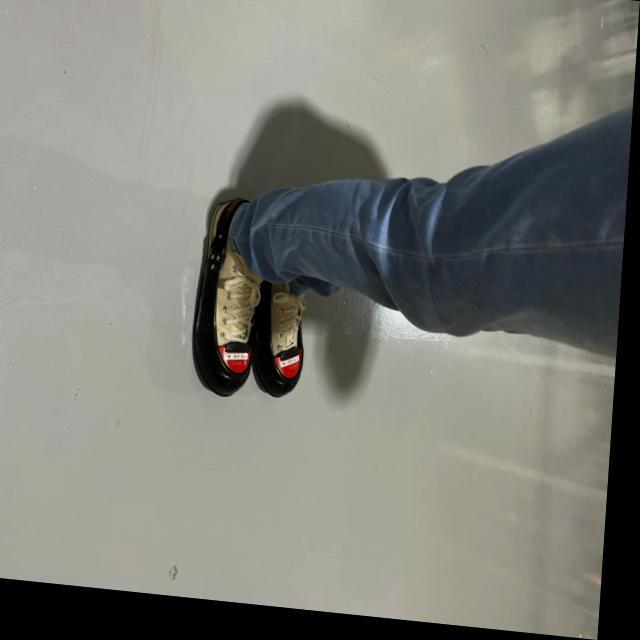shoes: (184, 197, 263, 400), (249, 290, 305, 404)
